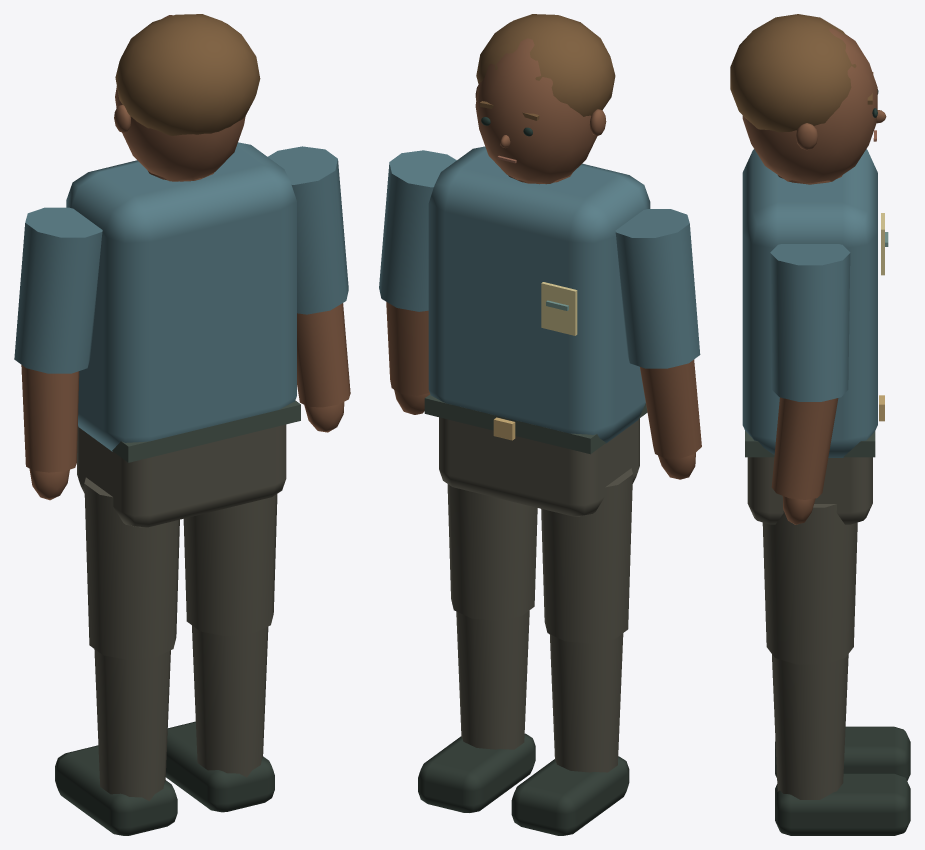
The model's file is scout-07.glb.
The picture shows the model from 3 angles, left to right: view 1: azimuth 30°, elevation 25°; view 2: azimuth 150°, elevation 25°; view 3: azimuth 270°, elevation 25°; orthographic projection. The views are drawn at different scales.
Visible parts, largest first — view 1: Scout character 7, left-upper-arm, right-upper-arm; view 2: Scout character 7, left-upper-arm, right-upper-arm; view 3: Scout character 7, right-upper-arm.
Part boxes in pixels (x1=…): Scout character 7: x1=55, y1=14, x2=300, y2=835; left-upper-arm: x1=14, y1=207, x2=102, y2=500; right-upper-arm: x1=268, y1=146, x2=350, y2=432; Scout character 7: x1=418, y1=14, x2=650, y2=835; left-upper-arm: x1=615, y1=209, x2=701, y2=479; right-upper-arm: x1=379, y1=150, x2=456, y2=414; Scout character 7: x1=730, y1=14, x2=910, y2=835; right-upper-arm: x1=770, y1=244, x2=850, y2=524.
Bounding box in the file's own units: 0.7284 × 1.72 × 0.3591.
